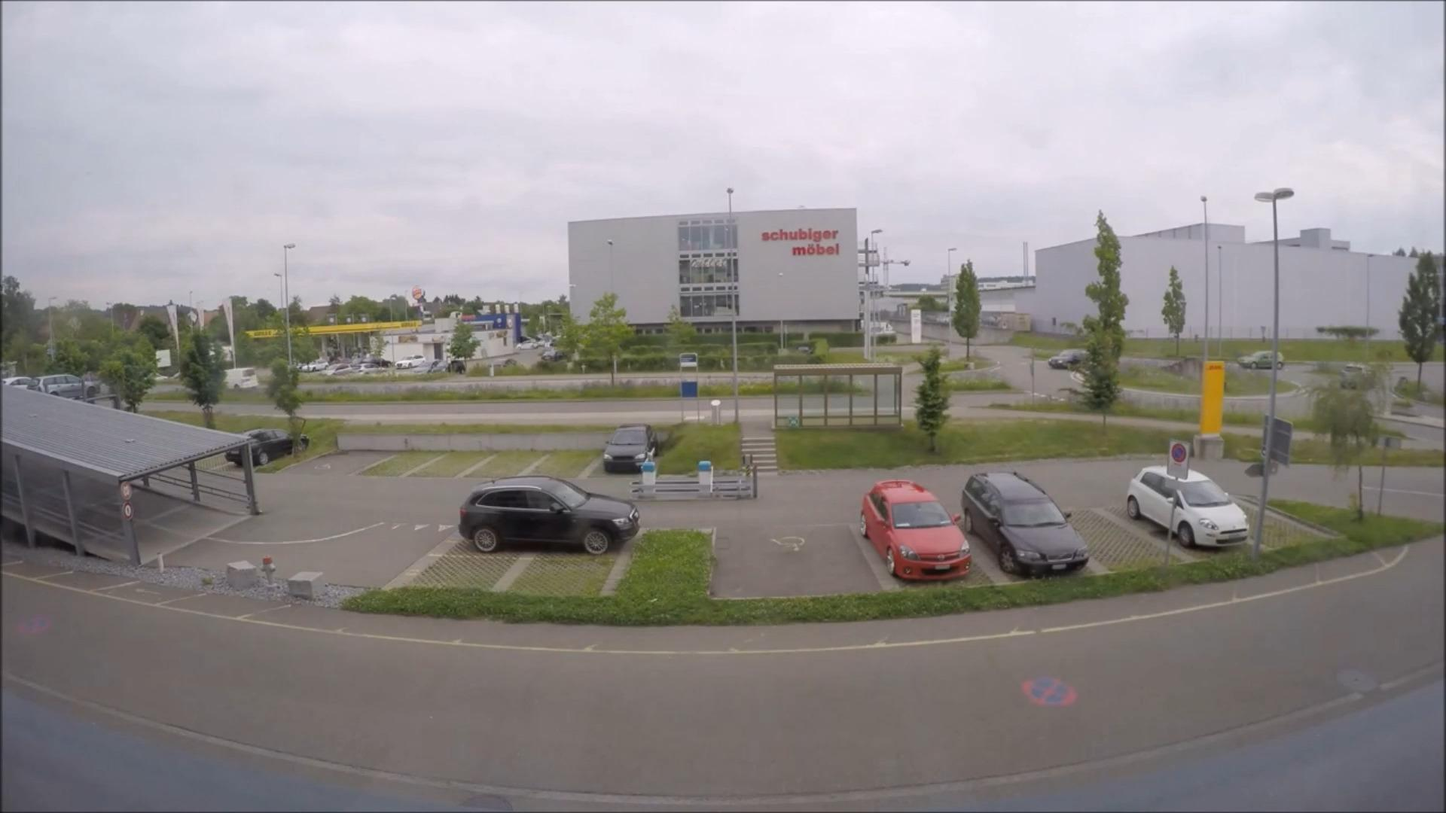occupied: (456, 475, 644, 557), (963, 469, 1093, 575), (867, 477, 978, 579), (1127, 463, 1252, 549), (224, 428, 308, 467), (601, 424, 656, 471), (33, 373, 89, 399), (1237, 350, 1285, 370), (1047, 350, 1088, 370), (357, 358, 393, 370), (2, 376, 34, 388), (541, 350, 566, 362)
